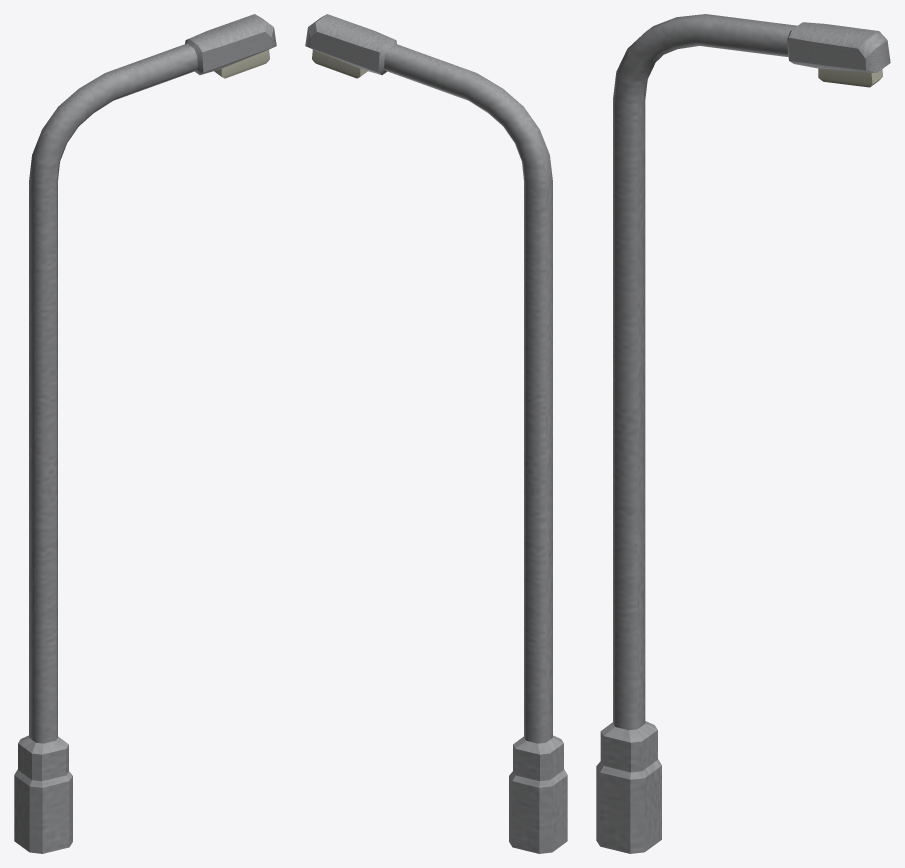
File: Lantern.fbx
The picture shows the model from 3 angles, left to right: view 1: azimuth 30°, elevation 25°; view 2: azimuth 150°, elevation 25°; view 3: azimuth 330°, elevation 25°; orthographic projection. The views are drawn at different scales.
Visible parts, largest first — view 1: Cube; view 2: Cube; view 3: Cube.
Part boxes in pixels (bbox=[...]): Cube: bbox=[14, 14, 276, 853]; Cube: bbox=[305, 14, 567, 853]; Cube: bbox=[596, 14, 890, 853].
Size of the model in its own units: 1152 by 3406 by 200.
1 material, 1 textured.
